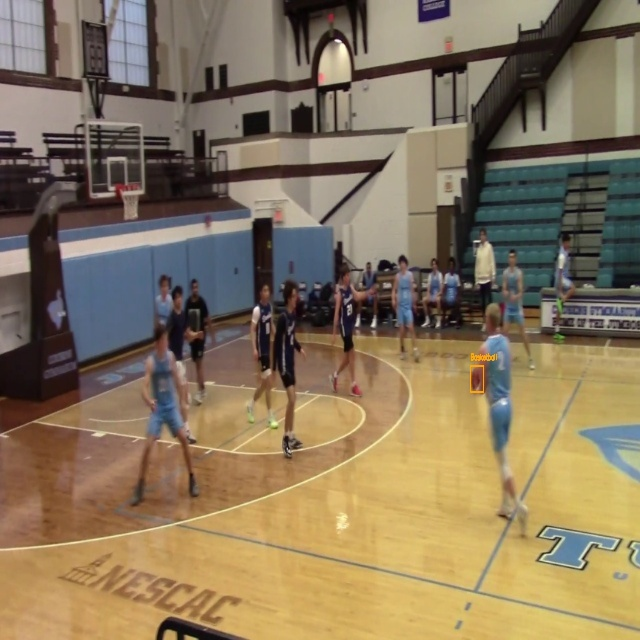Basketball: (471, 366, 484, 392)
